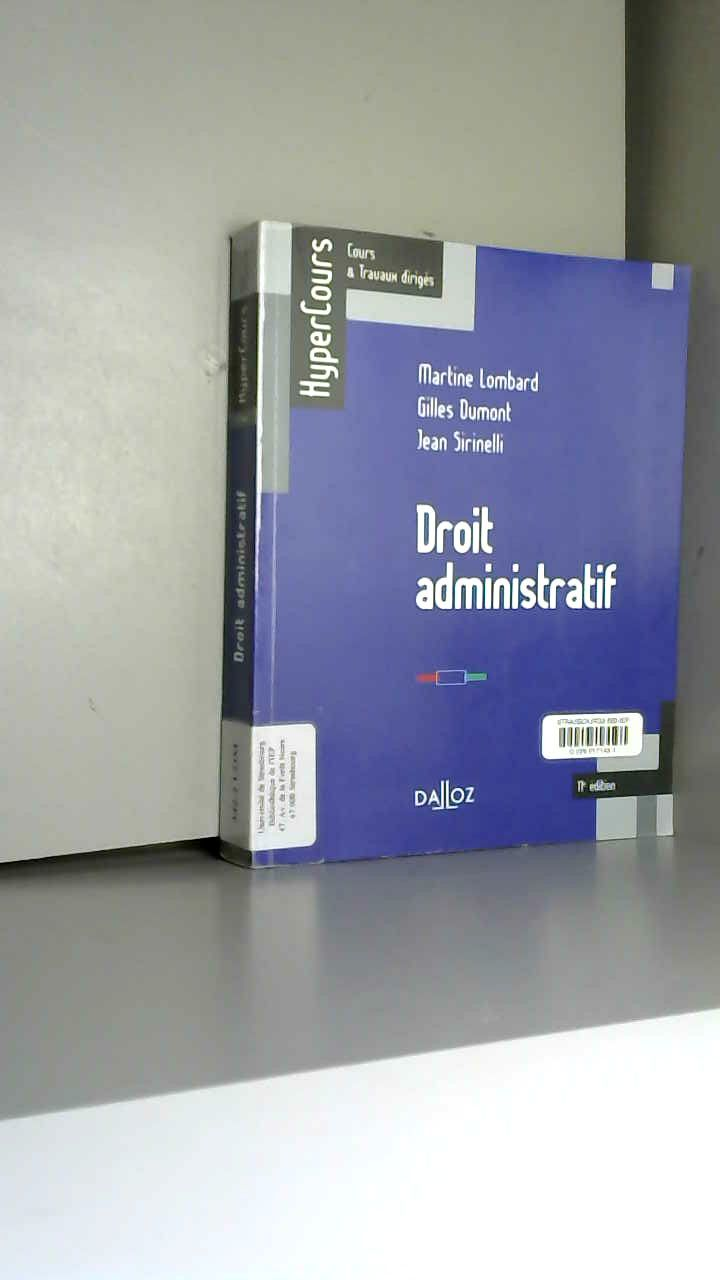book: (190, 190, 718, 886)
